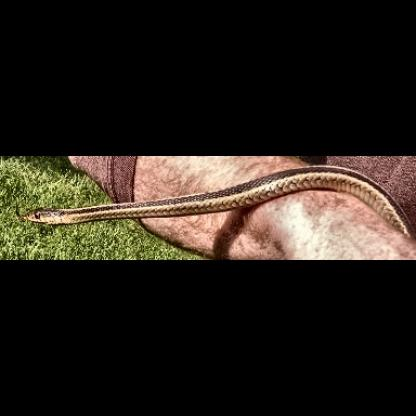Snake: (20, 165, 416, 237)
